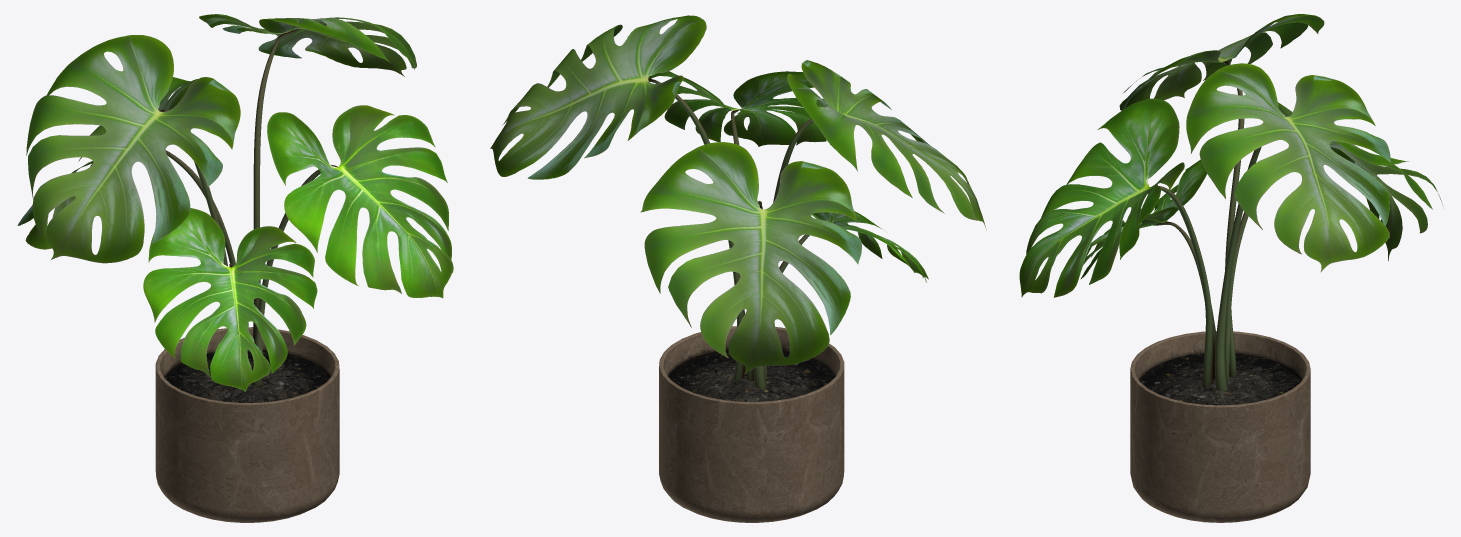
Rendered from monstera_b02.glb.
3 views of the same model, side by side, from view 1: azimuth 30°, elevation 25°; view 2: azimuth 150°, elevation 25°; view 3: azimuth 270°, elevation 25° (orthographic). The views are drawn at different scales.
Parts seen in each view (by area): view 1: SM_MZRa_Monstera_B02; view 2: SM_MZRa_Monstera_B02; view 3: SM_MZRa_Monstera_B02.
Boxes of the visible parts, x1,y1,x2,y2 form: SM_MZRa_Monstera_B02: (17,14,453,522); SM_MZRa_Monstera_B02: (490,15,986,522); SM_MZRa_Monstera_B02: (1019,14,1443,522).
Bounding box in the file's own units: 1.55 × 1.58 × 1.37.
2 materials, 2 textured.
